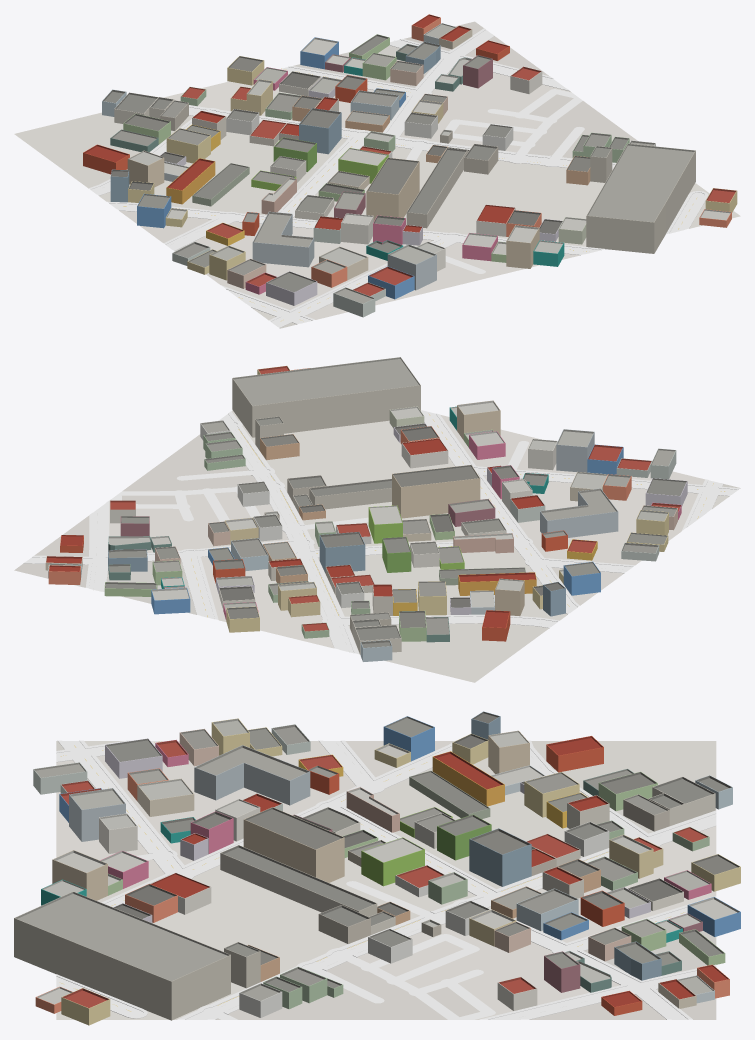
3 renders of one model, top to bottom at view 1: azimuth 30°, elevation 25°; view 2: azimuth 150°, elevation 25°; view 3: azimuth 270°, elevation 25°, orthographic. The views are drawn at different scales.
Parts seen in each view (by area): view 1: roofs, walls, ground, asphalt, sidewalk; view 2: walls, roofs, ground, asphalt, sidewalk; view 3: walls, roofs, ground, asphalt, sidewalk.
Part boxes in pixels (x1=…): roofs: x1=83, y1=14, x2=736, y2=303; walls: x1=83, y1=18, x2=737, y2=317; ground: x1=14, y1=21, x2=740, y2=328; asphalt: x1=90, y1=30, x2=704, y2=326; sidewalk: x1=89, y1=28, x2=708, y2=327; walls: x1=45, y1=370, x2=687, y2=661; roofs: x1=45, y1=357, x2=687, y2=648; ground: x1=14, y1=410, x2=740, y2=682; asphalt: x1=26, y1=410, x2=737, y2=653; sidewalk: x1=23, y1=411, x2=739, y2=654; walls: x1=14, y1=716, x2=740, y2=1025; roofs: x1=14, y1=711, x2=740, y2=1008; ground: x1=56, y1=741, x2=716, y2=1019; asphalt: x1=56, y1=741, x2=716, y2=1019; sidewalk: x1=56, y1=740, x2=716, y2=1019.
Size of what is drawn, in the model's own units: 261 by 16.3 by 275.
